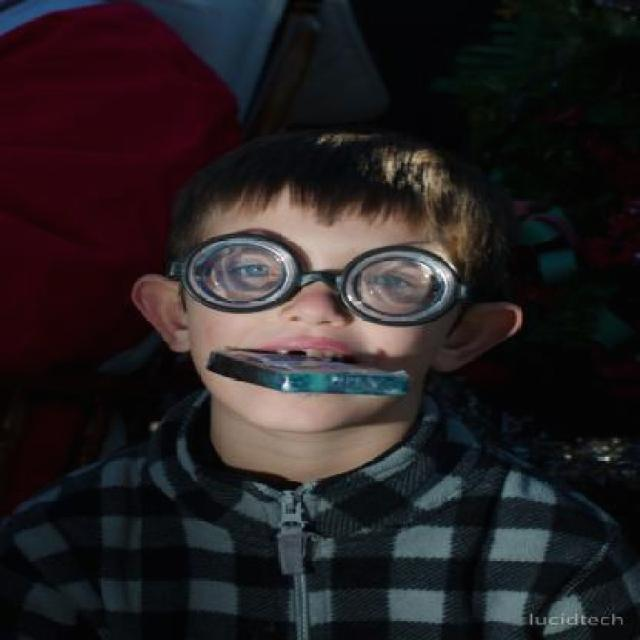face_nomask: (227, 247, 416, 381)
glasses: (156, 236, 484, 318)
head_nohelmet: (197, 121, 458, 233)
person: (41, 121, 558, 640)
